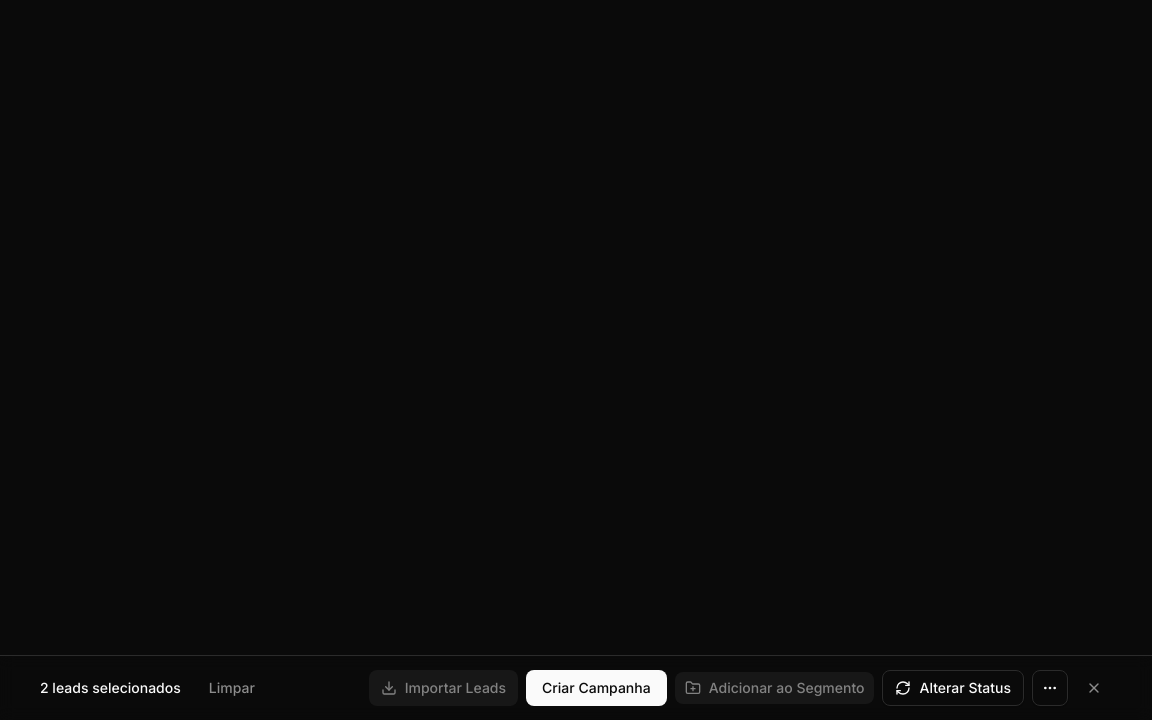
Test: LeadSelectionBar › Bulk Delete (Story 12.5) › AC#3: opens confirmation dialog when 'Excluir Leads' clicked
Click the 1st button named "Mais opções" at x=1050, y=688, box [1032,670,1068,706]
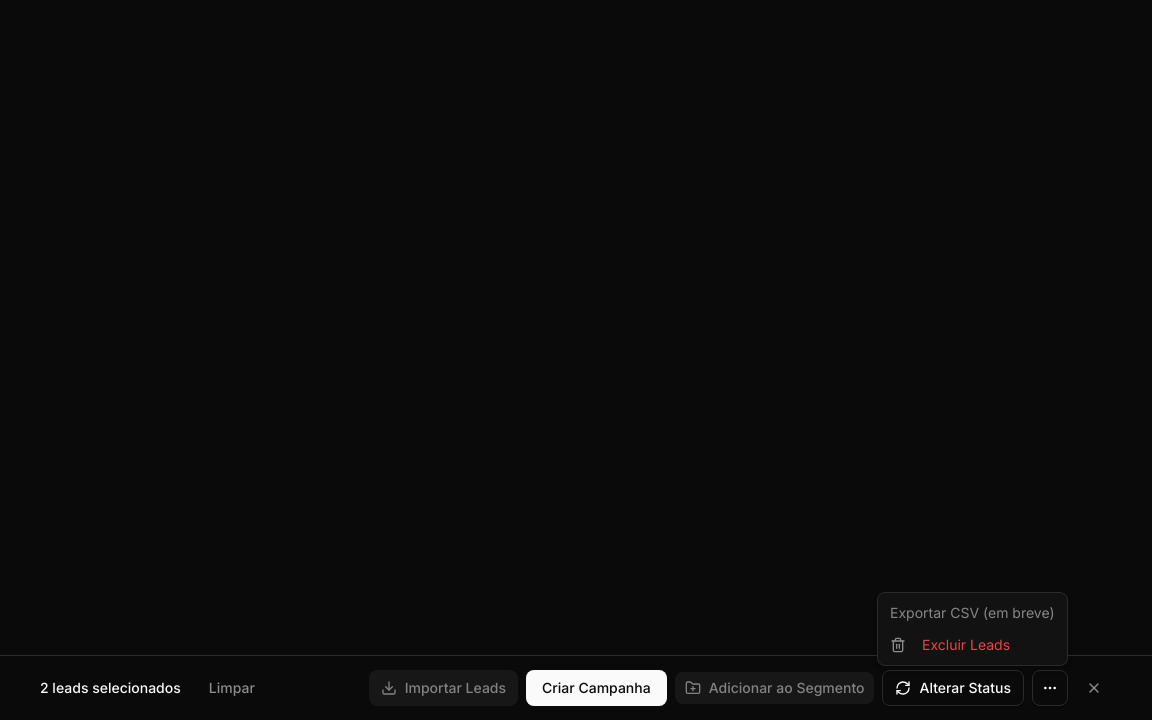
Expected: the menu item "Excluir Leads" is shown
Click the menu item "Excluir Leads" at x=950, y=644, box [890,636,1010,653]
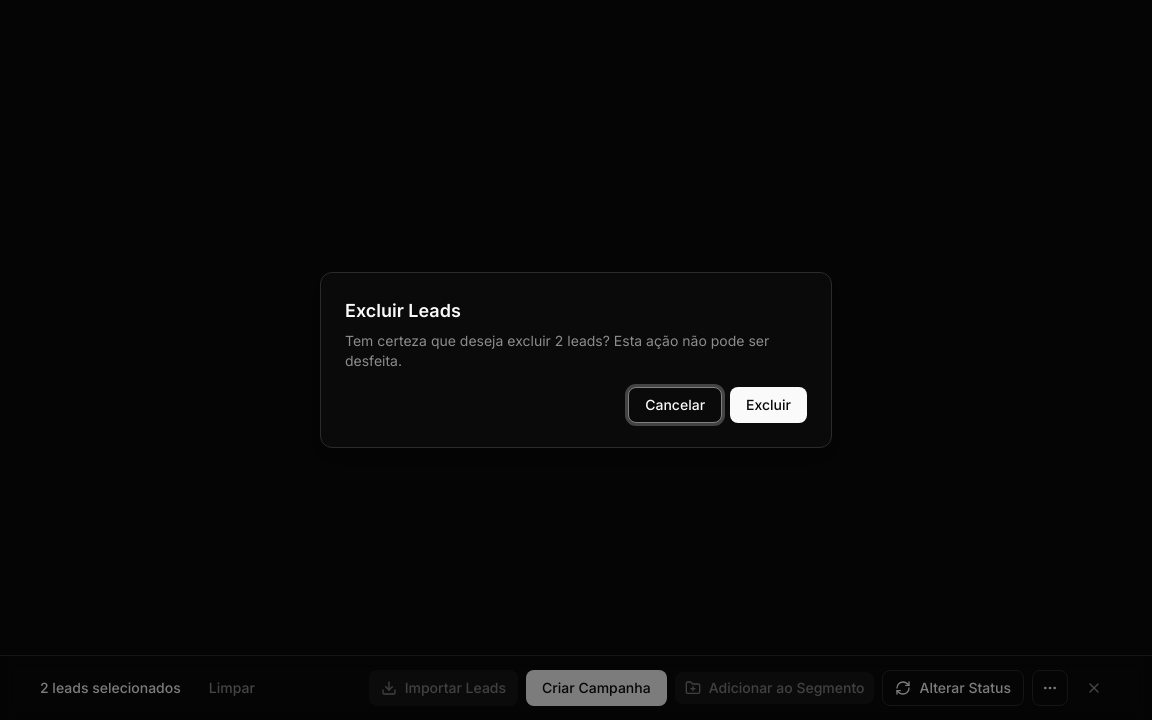
Expected: the heading "Excluir Leads" is shown, [345,297,461,325]
Expected: the text "Tem certeza que deseja excluir 2 leads?" is shown, [345,331,807,371]
